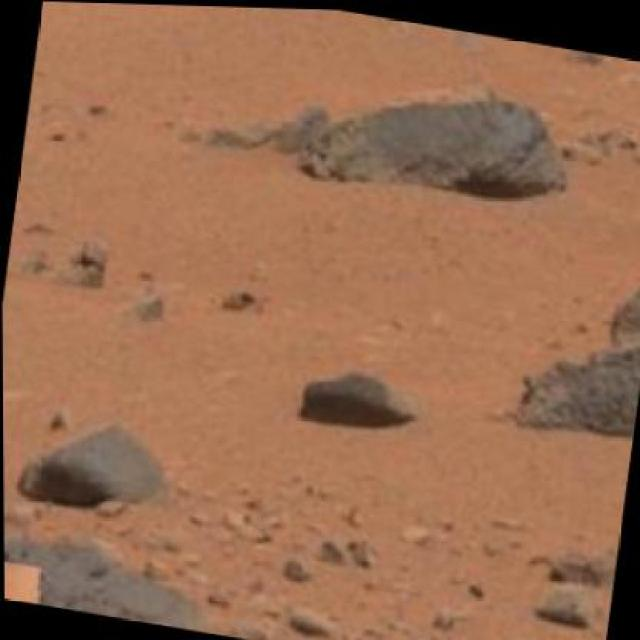rock: (296, 60, 578, 218), (509, 243, 638, 442), (3, 525, 228, 632), (12, 406, 172, 522), (212, 5, 486, 46), (299, 359, 421, 433)
